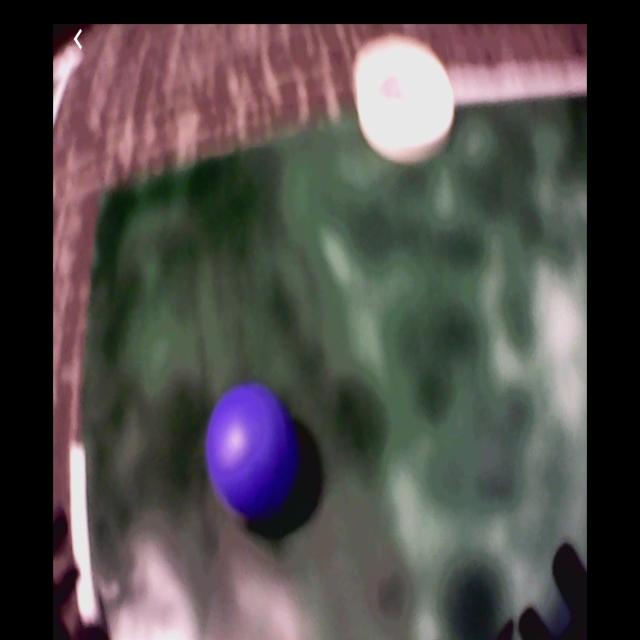ball: (206, 378, 294, 523)
